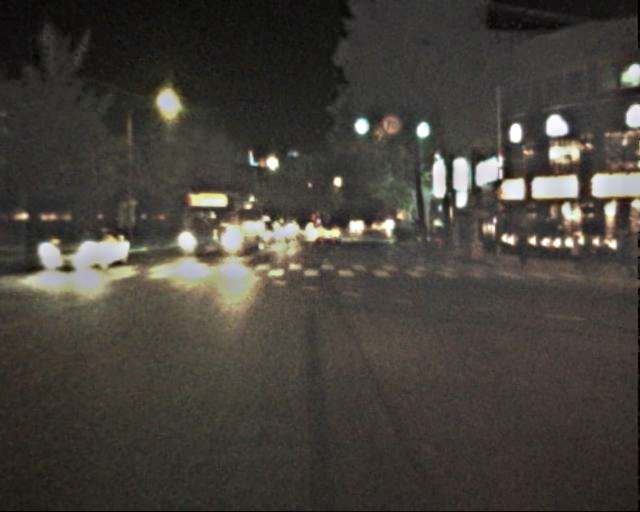person: (602, 231, 640, 272), (564, 236, 591, 274), (511, 227, 529, 271)
